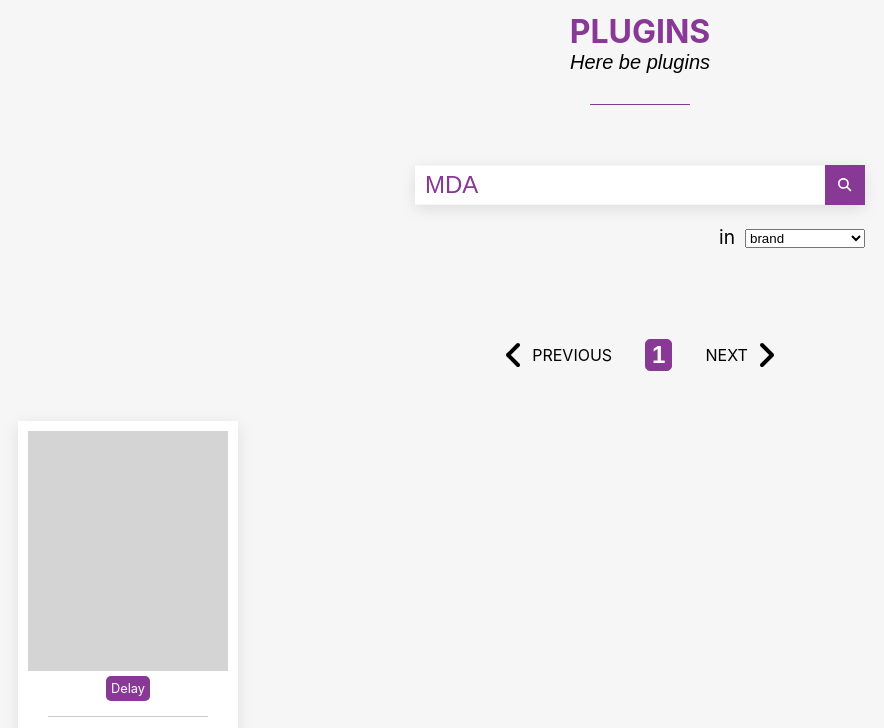
Test: PluginsPage › shows the filter of a card link in the search form
Step 1. Click the link "Delay" → (128, 688), box [106,676,150,701]
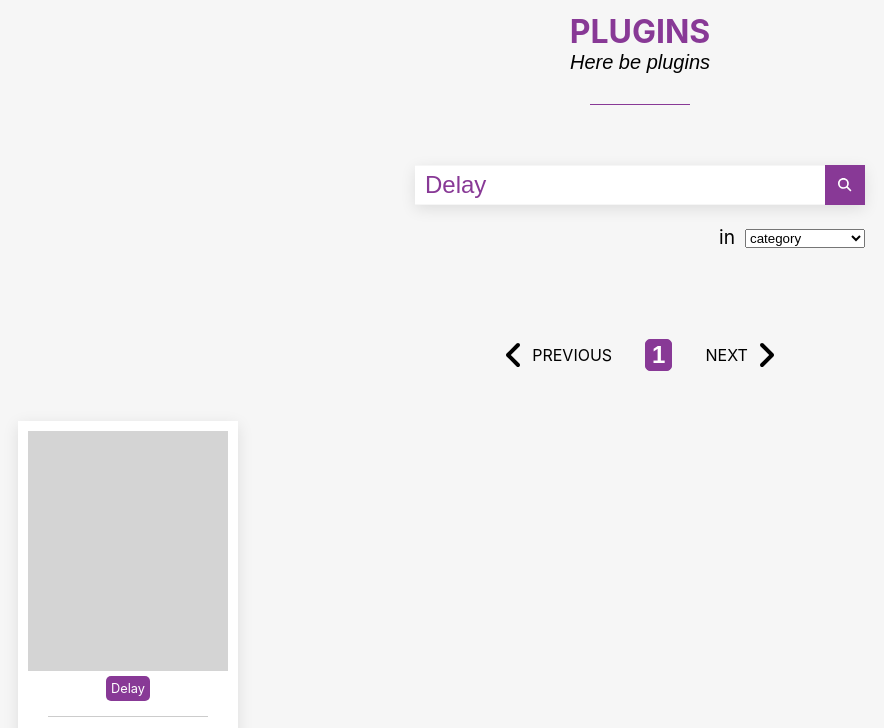
Now the field holds "Delay", box [415,166,825,204]
Now the dropdown shows "category", box [745,228,865,248]
